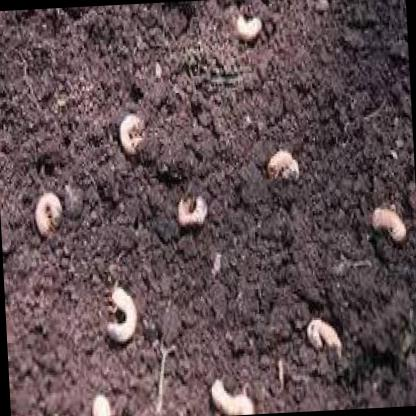root grubs: (106, 285, 134, 342), (372, 209, 408, 238), (177, 195, 207, 226)
